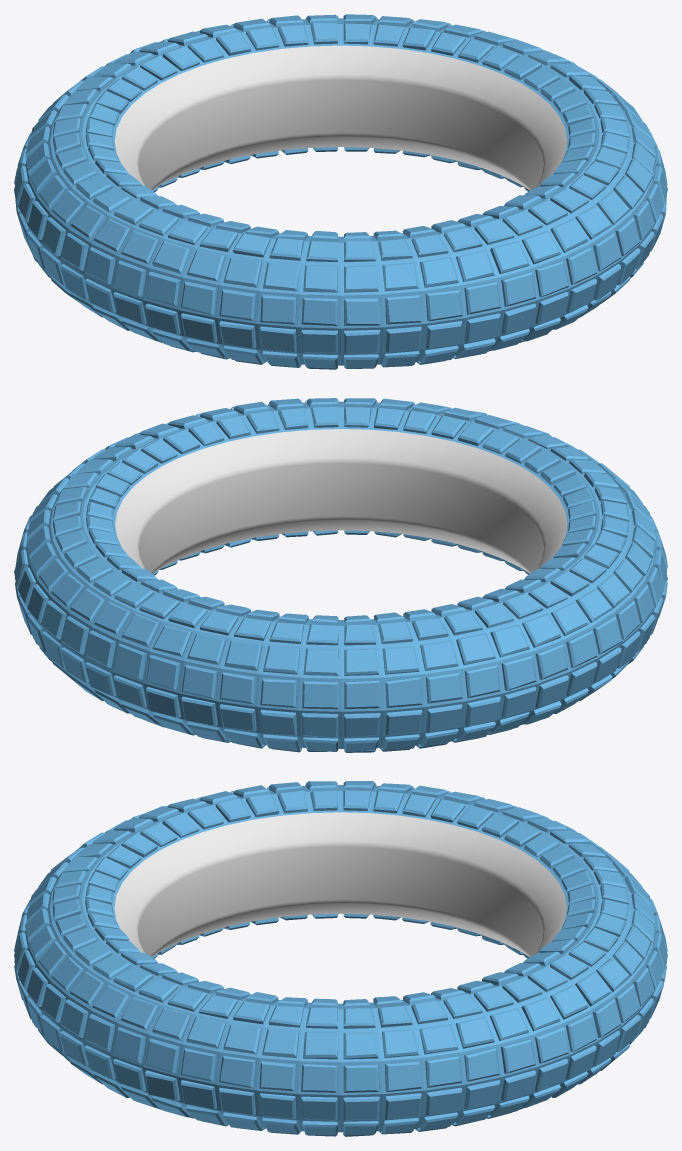
The model's file is bikeTire.glb.
The picture shows the model from 3 angles, top to bottom: view 1: azimuth 30°, elevation 25°; view 2: azimuth 150°, elevation 25°; view 3: azimuth 270°, elevation 25°; orthographic projection.
Parts seen in each view (by area): view 1: Torus.001; view 2: Torus.001; view 3: Torus.001.
Boxes of the visible parts, x1,y1,x2,y2 form: Torus.001: [14, 14, 667, 369]; Torus.001: [14, 398, 667, 752]; Torus.001: [14, 781, 667, 1136].
Bounding box in the file's own units: 2.53 × 0.5359 × 2.53.
